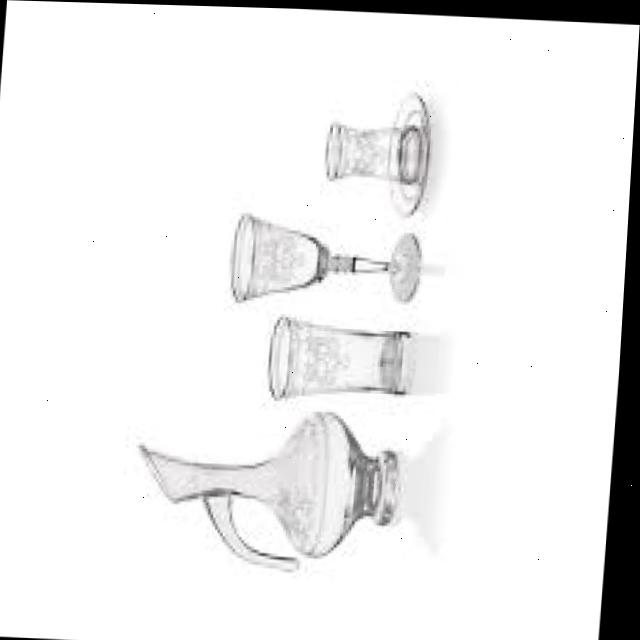Dry: (127, 404, 416, 580), (226, 208, 431, 314), (263, 309, 426, 411), (318, 80, 438, 217)
